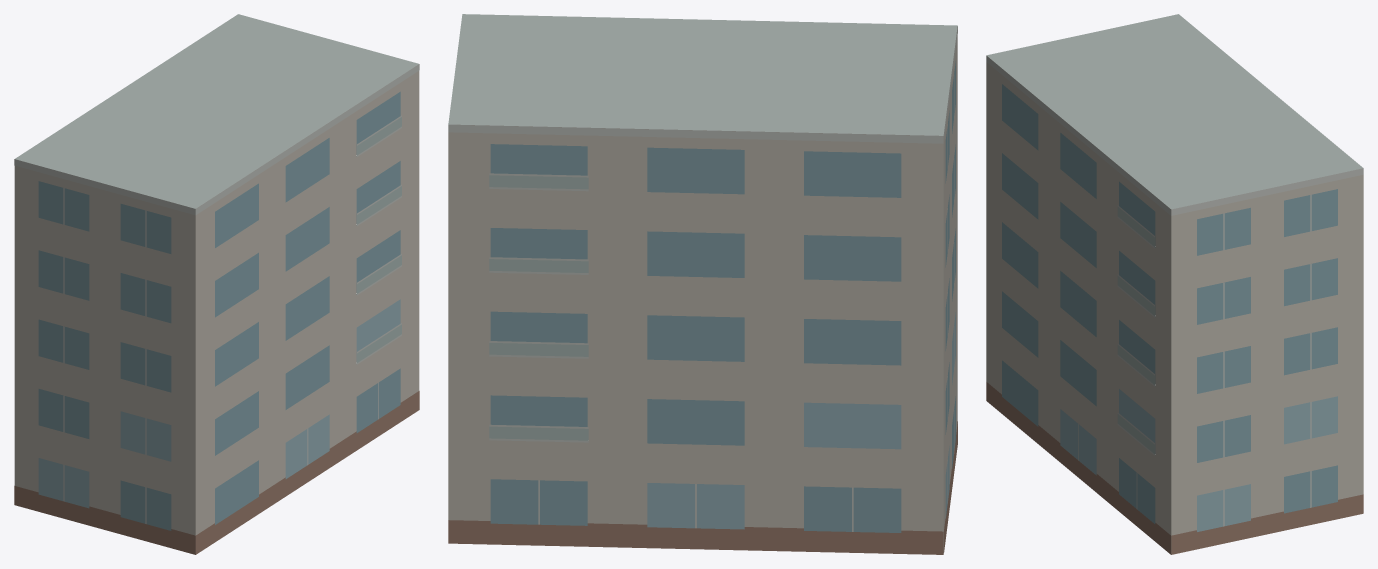
File: survey-upis-32708349.glb
The picture shows the model from 3 angles, left to right: view 1: azimuth 30°, elevation 25°; view 2: azimuth 150°, elevation 25°; view 3: azimuth 270°, elevation 25°; orthographic projection. The views are drawn at different scales.
Visible parts, largest first — view 1: survey-upis-32708349.tmp; view 2: survey-upis-32708349.tmp; view 3: survey-upis-32708349.tmp.
Boxes of the visible parts, left/top/right/bottom form: survey-upis-32708349.tmp: left=14, top=14, right=419, bottom=554; survey-upis-32708349.tmp: left=448, top=14, right=957, bottom=554; survey-upis-32708349.tmp: left=986, top=14, right=1363, bottom=554.
Bounding box in the file's own units: 15.79 × 13 × 12.88.
